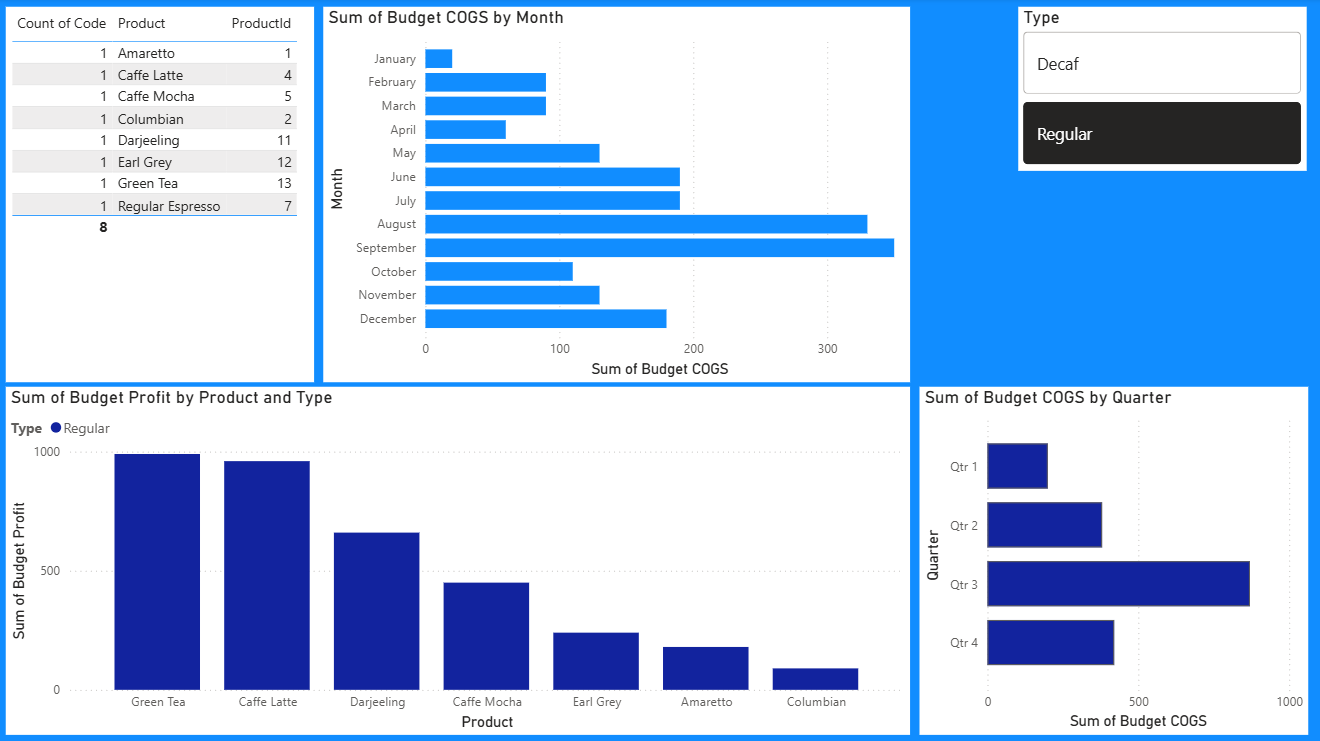

The page's visual inventory and layout, read from the dashboard file:
{"tool":"powerbi","page":{"name":"Duplicate of Page 1","canvas":[1280,720],"ordinal":1},"visuals":[{"type":"advancedSlicerVisual","fields":{"Values":["Products.Type"]},"box":[986.2,8.8,278.8,158.8],"z":0},{"type":"tableEx","fields":{"Values":["CountNonNull(Area.Code)","Products.Product","Products.ProductId"]},"box":[8.8,8.8,297.5,362.5],"z":1000},{"type":"clusteredBarChart","fields":{"Y":["Sum(Sales.Budget COGS)"],"Category":["Sales.Date.Variation.Date Hierarchy.Month"]},"box":[315,8.8,566.2,362.5],"z":2000},{"type":"columnChart","fields":{"Y":["Sum(Sales.Budget Profit)"],"Category":["Products.Product"],"Series":["Products.Type"]},"box":[8.8,375,872.5,336.2],"z":3000},{"type":"barChart","fields":{"Y":["Sum(Sales.Budget COGS)"],"Category":["Sales.Date.Variation.Date Hierarchy.Quarter"]},"box":[890,375,375,336.2],"z":4000}]}

Visuals, with their boxes in screenshot pixels (x1, y1, x2, y2), scaled from the page's 1280x720 canvas onto the 1320x741 screenshot:
advancedSlicerVisual - Products.Type: 1017, 9, 1305, 172
tableEx - CountNonNull(Area.Code) x Products.Product: 9, 9, 316, 382
clusteredBarChart - Sum(Sales.Budget COGS) x Sales.Date.Variation.Date Hierarchy.Month: 325, 9, 909, 382
columnChart - Sum(Sales.Budget Profit) x Products.Product: 9, 386, 909, 732
barChart - Sum(Sales.Budget COGS) x Sales.Date.Variation.Date Hierarchy.Quarter: 918, 386, 1305, 732
